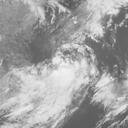cyclone: (37, 39, 95, 89)
